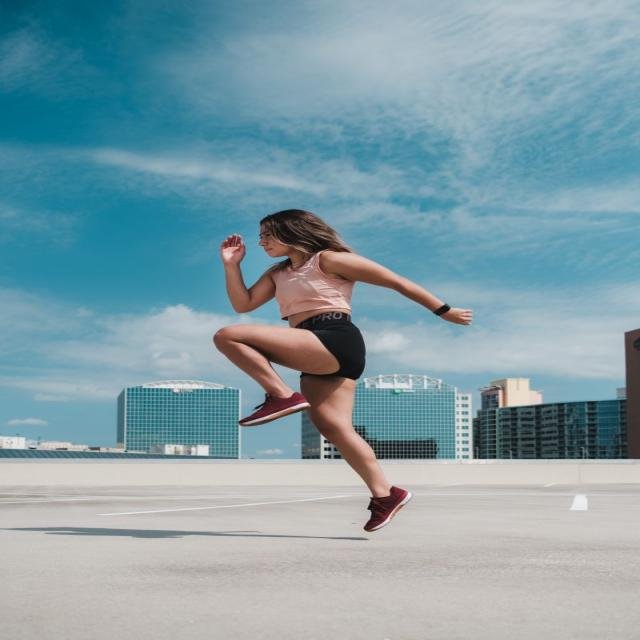running: (212, 206, 480, 538)
